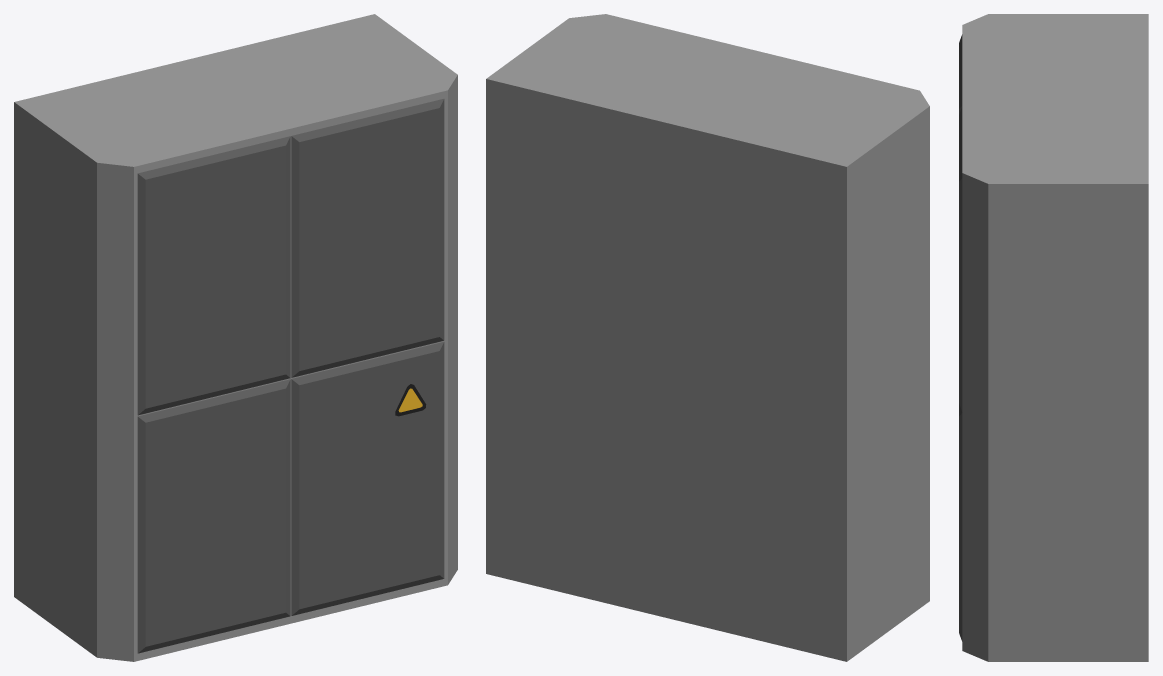
Rendered from space_station_decoration_009.fbx.
3 views of the same model, side by side, from view 1: azimuth 30°, elevation 25°; view 2: azimuth 150°, elevation 25°; view 3: azimuth 270°, elevation 25° (orthographic). The views are drawn at different scales.
Visible parts, largest first — view 1: space_station_decoration_009; view 2: space_station_decoration_009; view 3: space_station_decoration_009.
Part boxes in pixels (box(x1,y1,x2,y2)): space_station_decoration_009: box(14, 14, 457, 661); space_station_decoration_009: box(486, 14, 929, 661); space_station_decoration_009: box(959, 14, 1148, 661).
Bounding box in the file's own units: 312 × 147 × 409.
